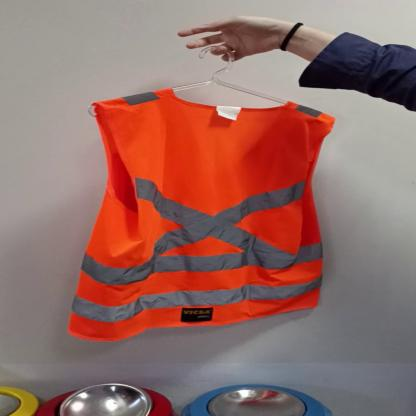colete: (66, 87, 332, 338)
